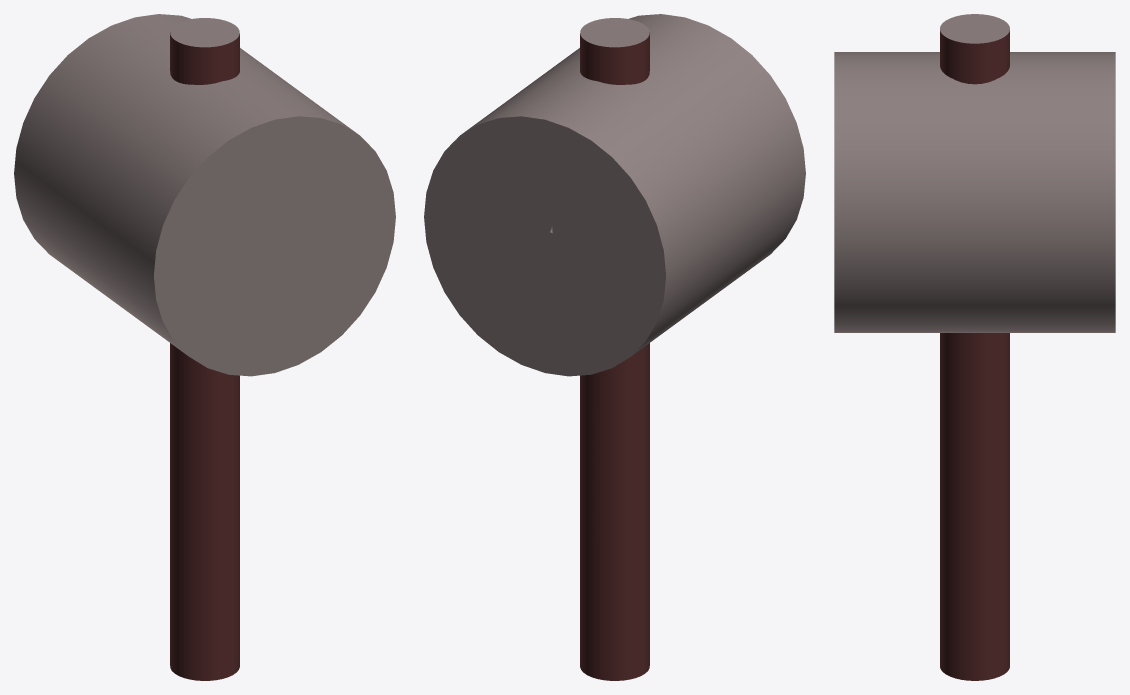
The model's file is Hammer.obj.
3 views of the same model, side by side, from view 1: azimuth 30°, elevation 25°; view 2: azimuth 150°, elevation 25°; view 3: azimuth 270°, elevation 25° (orthographic).
Parts seen in each view (by area): view 1: 円柱; view 2: 円柱; view 3: 円柱.
Part boxes in pixels (left/top/right/bottom): 円柱: left=14, top=14, right=395, bottom=680; 円柱: left=424, top=14, right=805, bottom=680; 円柱: left=834, top=14, right=1115, bottom=680.
Size of the model in its own units: 4 by 10 by 4.
